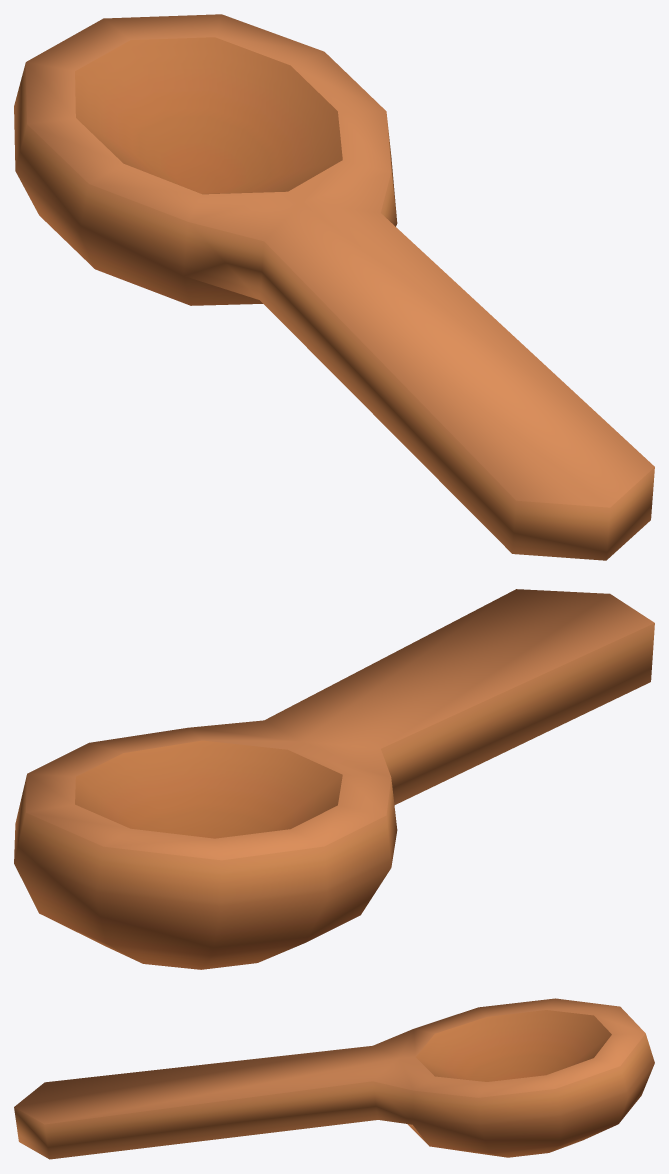
File: Spoon_Wood_002.gltf
3 renders of one model, top to bottom at view 1: azimuth 30°, elevation 25°; view 2: azimuth 150°, elevation 25°; view 3: azimuth 270°, elevation 25°, orthographic. The views are drawn at different scales.
Parts seen in each view (by area): view 1: Spoon_Wood_002_x; view 2: Spoon_Wood_002_x; view 3: Spoon_Wood_002_x.
Part boxes in pixels (x1,y1,x2,y2): Spoon_Wood_002_x: (14, 14, 654, 560); Spoon_Wood_002_x: (14, 589, 654, 969); Spoon_Wood_002_x: (14, 998, 654, 1159).
Bounding box in the file's own units: 0.7541 × 0.402 × 2.15.
Materials: 1 (1 with a texture image).
